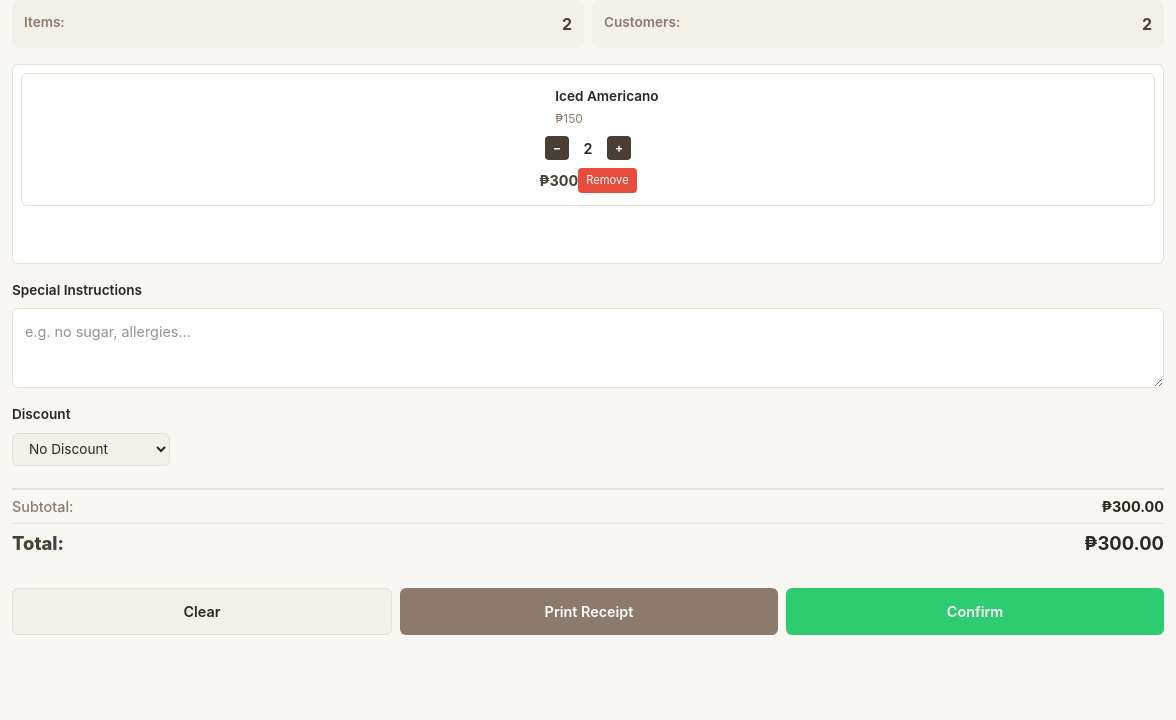
Test: OrderDetails › discount reset when order process ends › should reset discount type and value after Confirm (checkout) is clicked
Select "Percentage (%)" in the dropdown with test id "discount-type-select" at [91, 449], box [12,433,170,466]
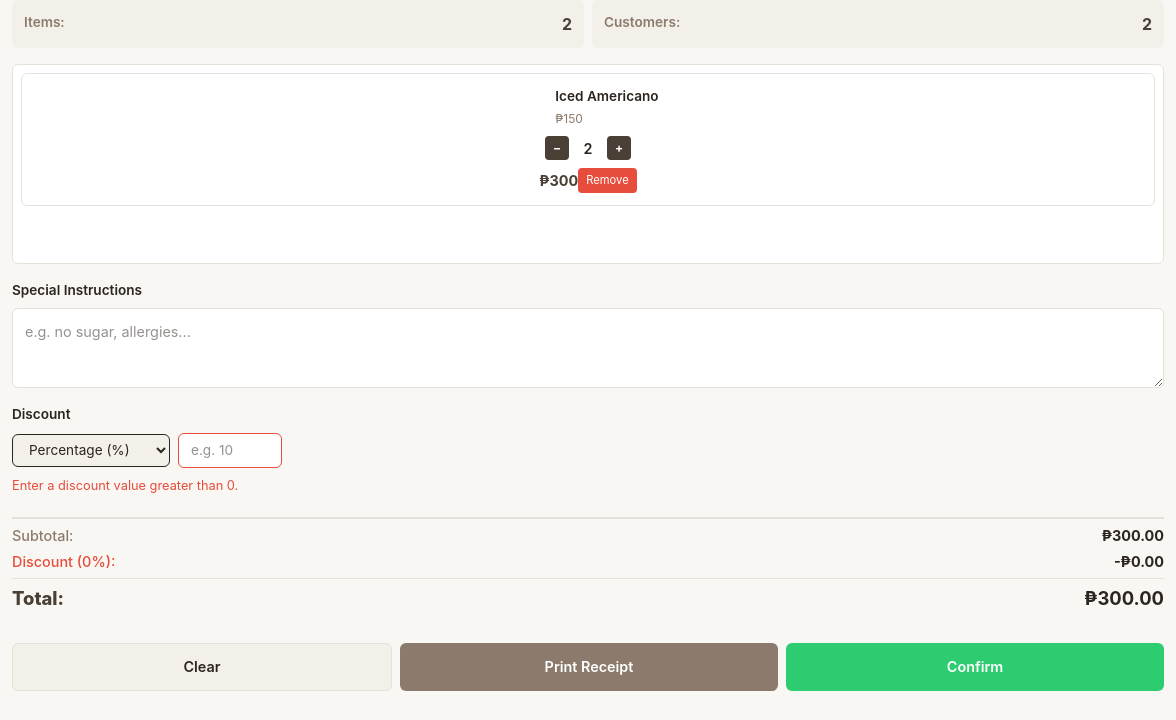
Type "15" into the number field with test id "discount-value-input" at [230, 450], box [178,433,282,468]
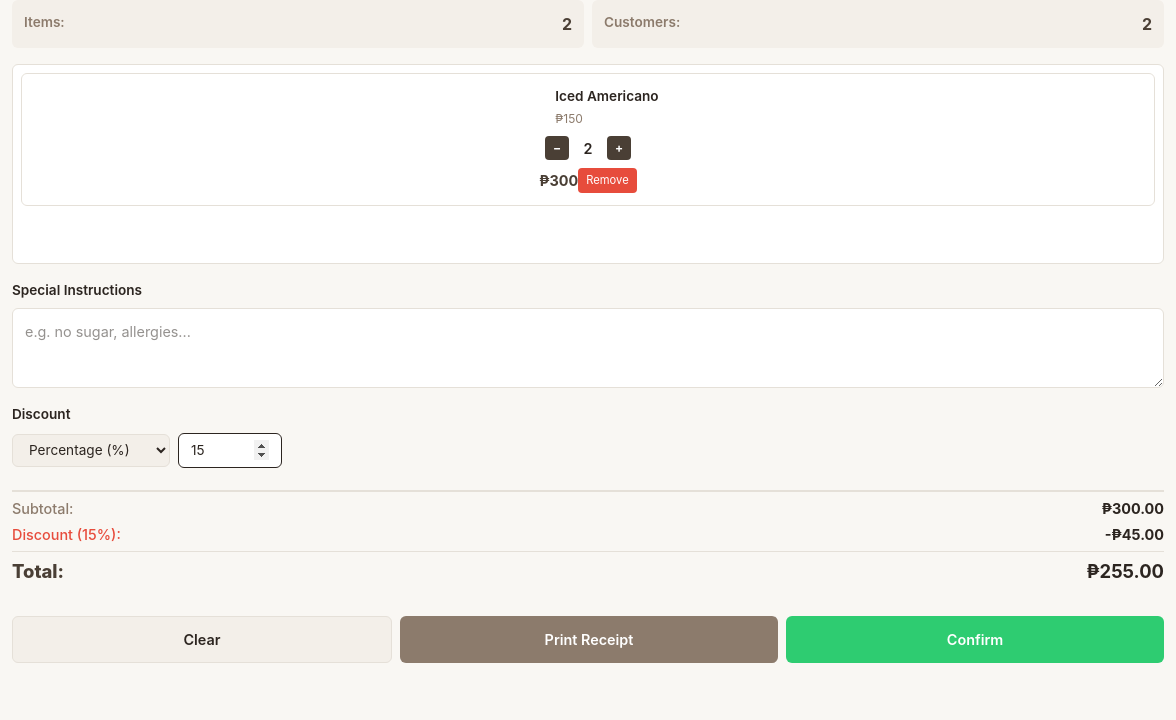
Click the button with test id "checkout-btn" at [975, 640], box [786,616,1164,663]
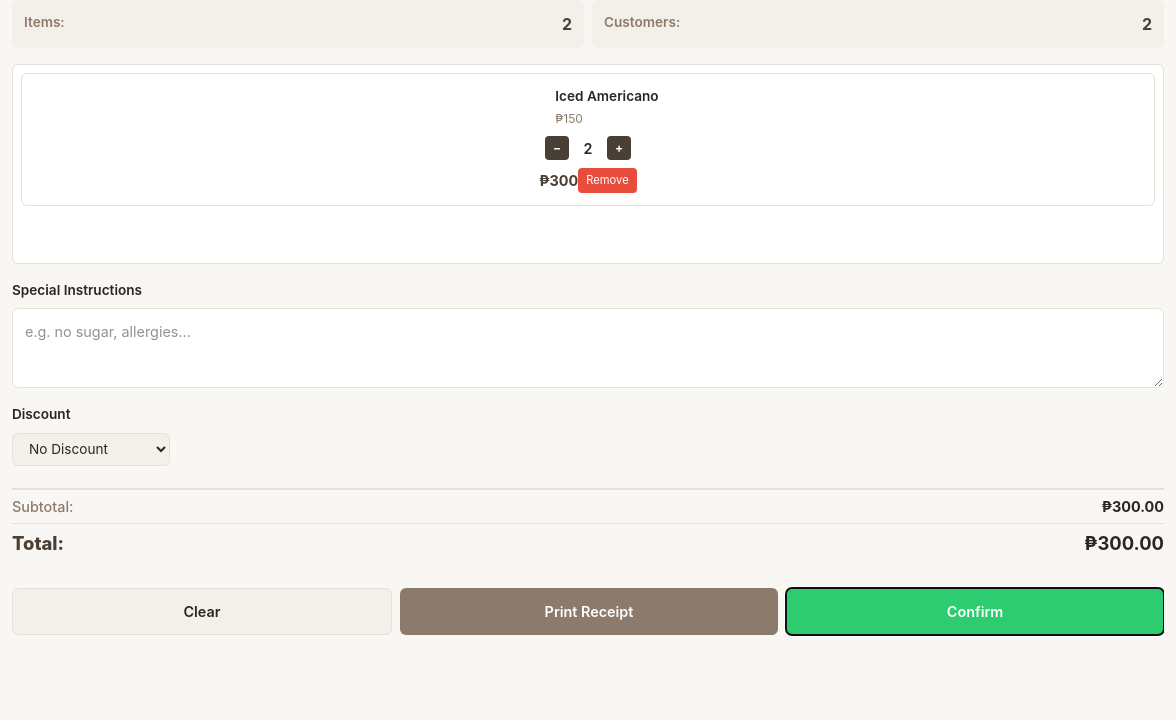
Now the number field with test id "discount-value-input" is gone
